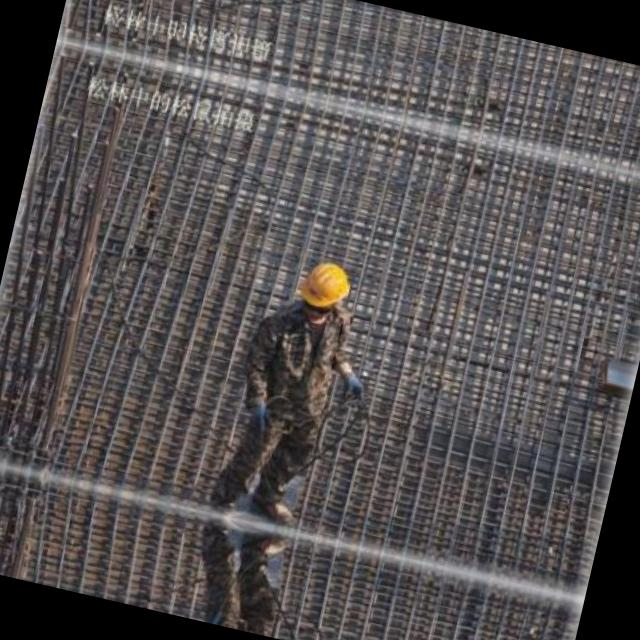helmet: (294, 254, 360, 326)
